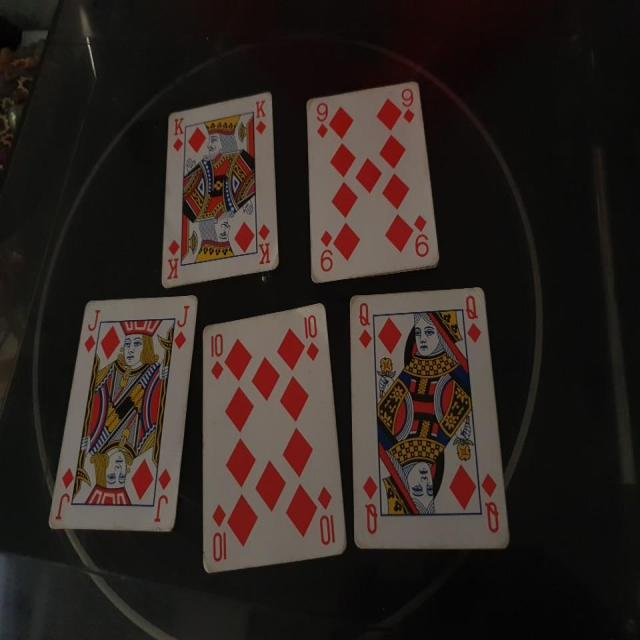10 Diamonds: (201, 298, 349, 572)
9 Diamonds: (305, 81, 440, 286)
J Diamonds: (47, 290, 199, 532)
K Diamonds: (158, 91, 280, 288)
Q Diamonds: (348, 284, 514, 554)
